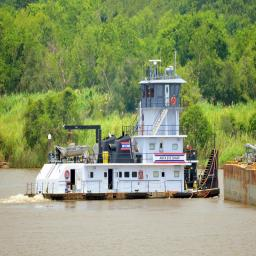tugboat: (24, 57, 223, 206)
